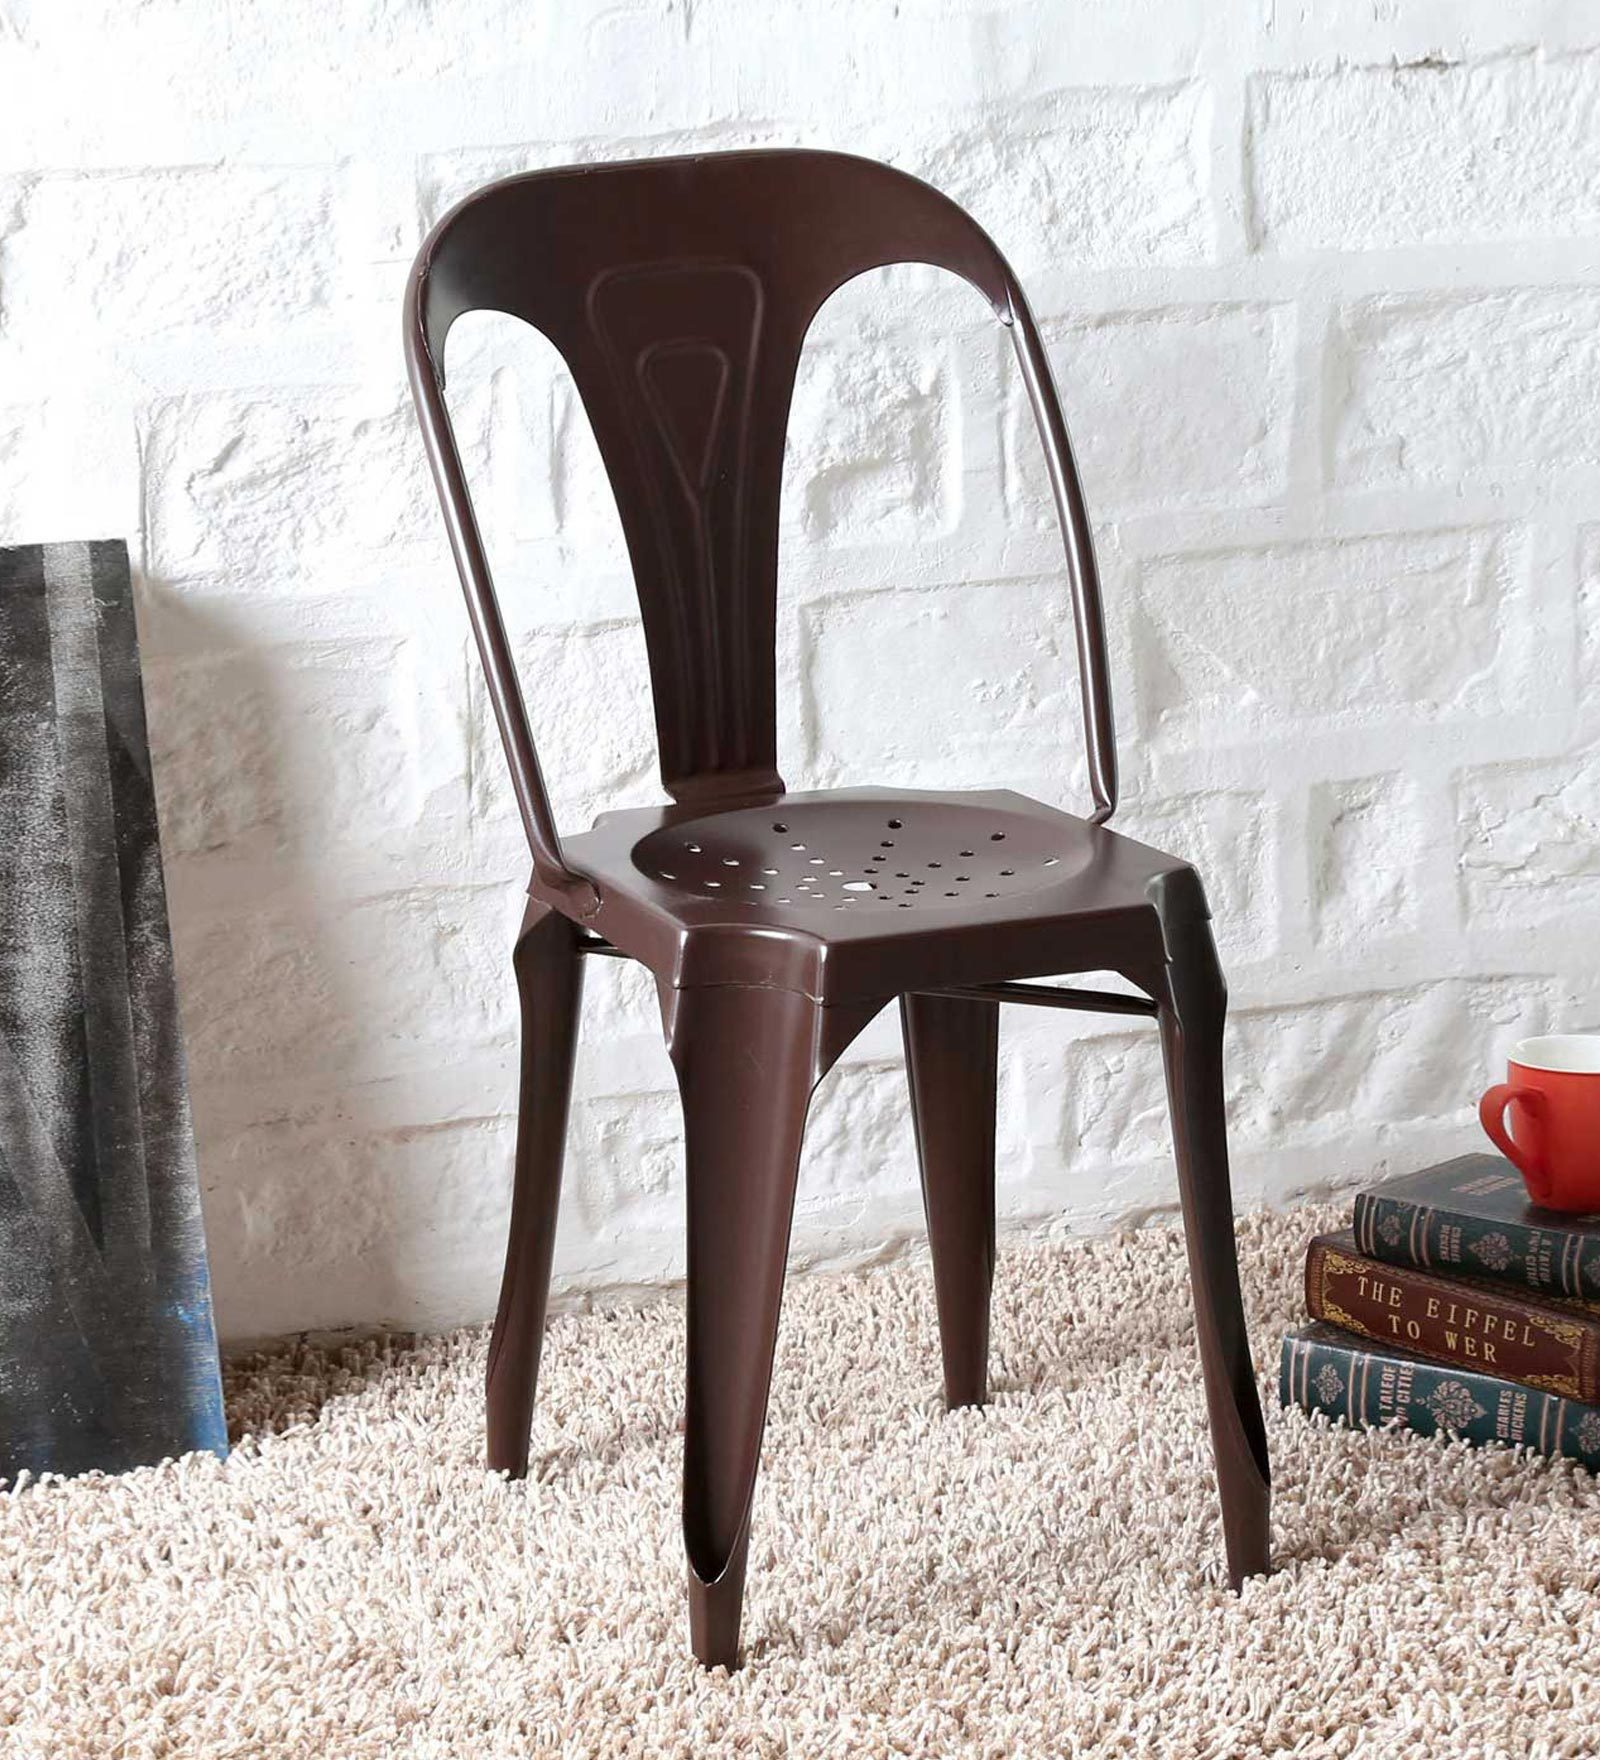Amos Metal Chair in Brown Color by Bohemiana: (343, 143, 1346, 1677)
